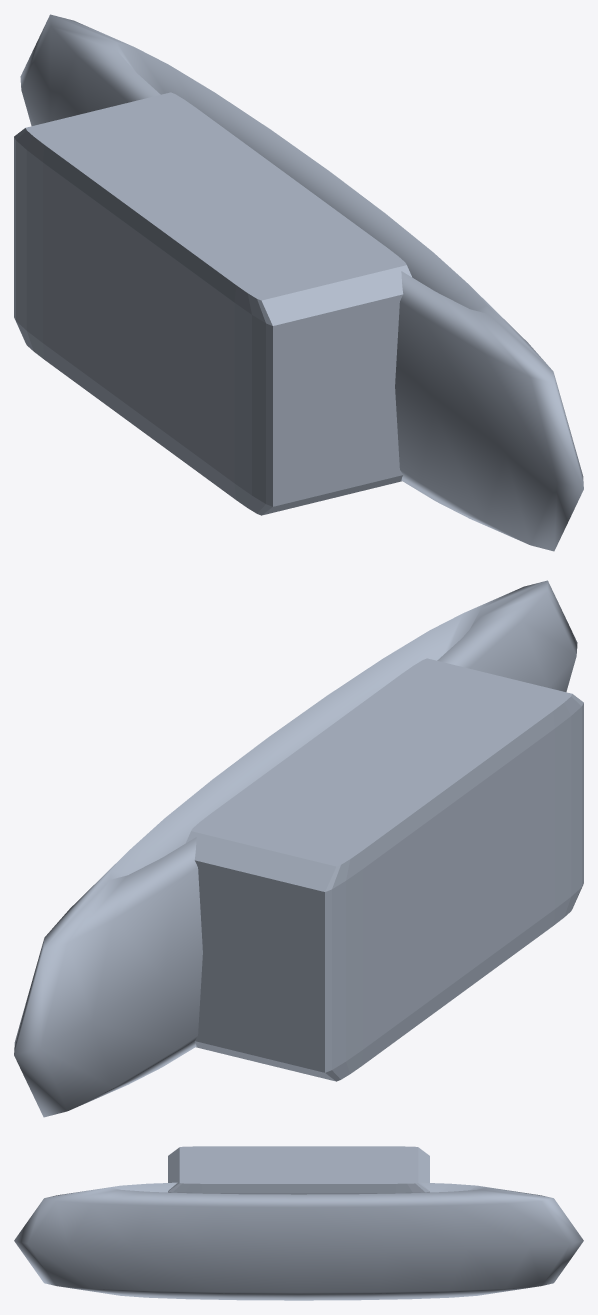
The model's file is repair_wrench.glb.
The picture shows the model from 3 angles, top to bottom: view 1: azimuth 30°, elevation 25°; view 2: azimuth 150°, elevation 25°; view 3: azimuth 270°, elevation 25°; orthographic projection. The views are drawn at different scales.
Parts seen in each view (by area): view 1: model; view 2: model; view 3: model.
Boxes of the visible parts, left/top/right/bottom form: model: left=14, top=14, right=583, bottom=551; model: left=14, top=580, right=583, bottom=1117; model: left=14, top=1146, right=583, bottom=1300.
Size of the model in its own units: 0.08 by 0.08 by 0.38.
